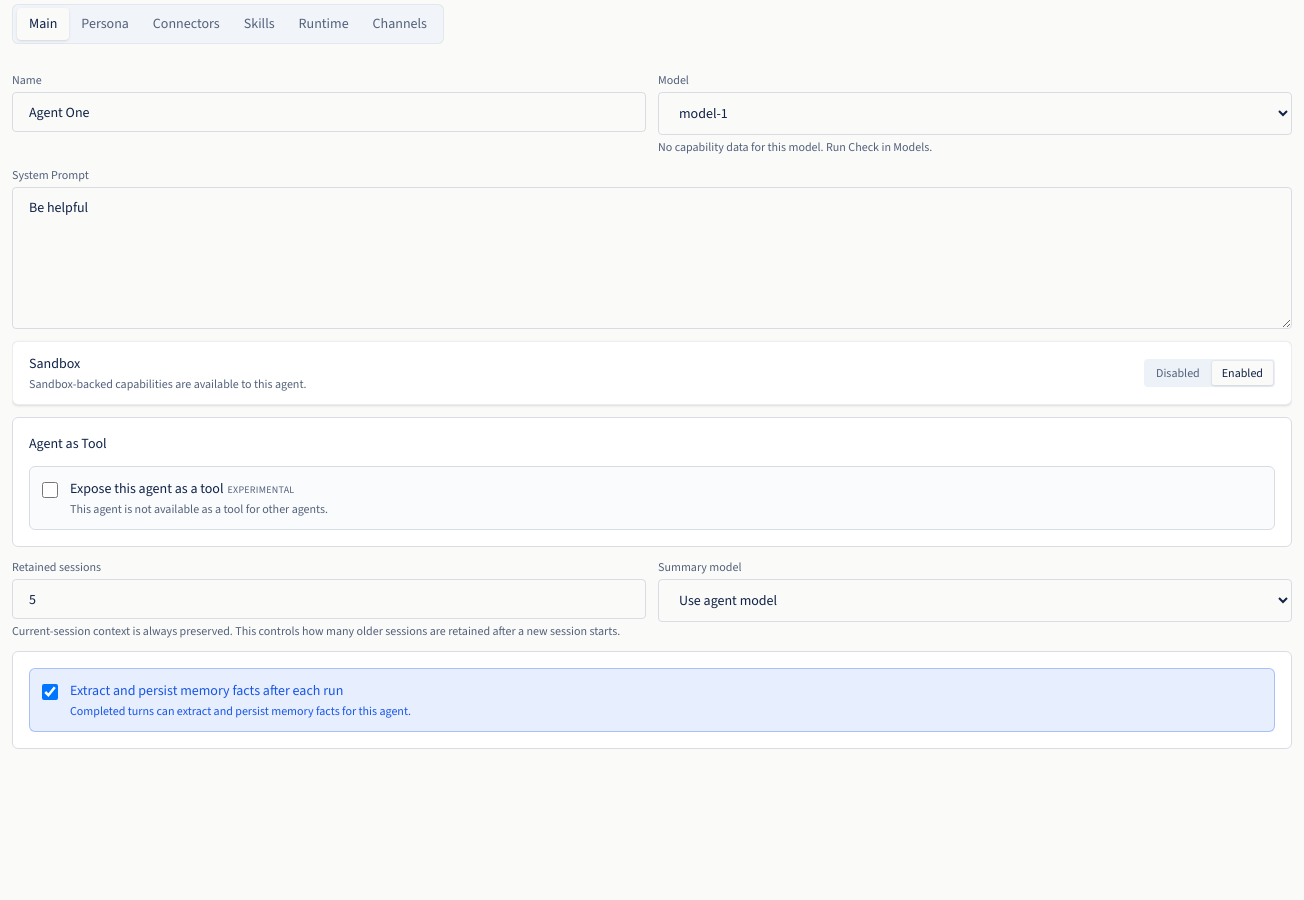
Test: AgentForm skills controls › shows an empty-state message when no skills are available
This screenshot has width=1304, height=900.
Click the tab "Skills" at (259, 24), box left=232, top=8, right=287, bottom=40
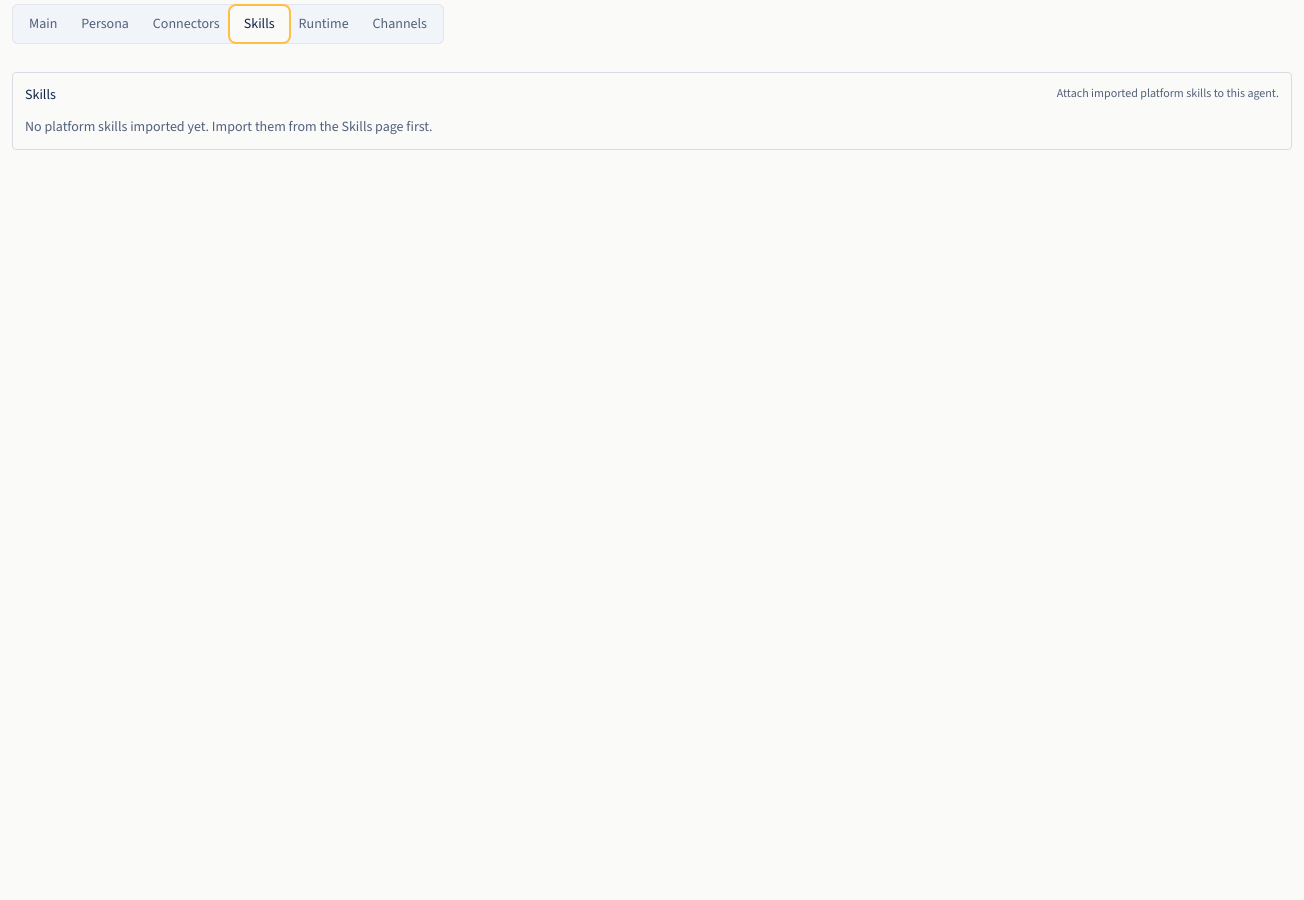
Expected: the text "No platform skills imported yet. Import them from the Skills page first." is shown, left=25, top=117, right=433, bottom=136
